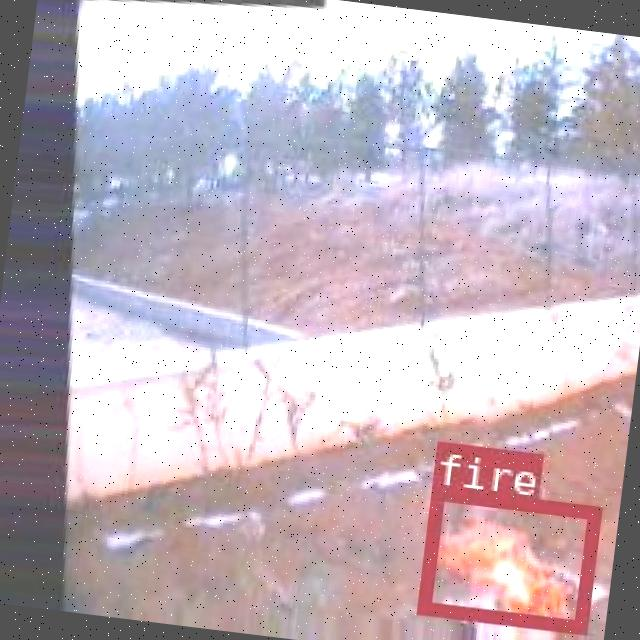fire: (416, 484, 600, 630)
